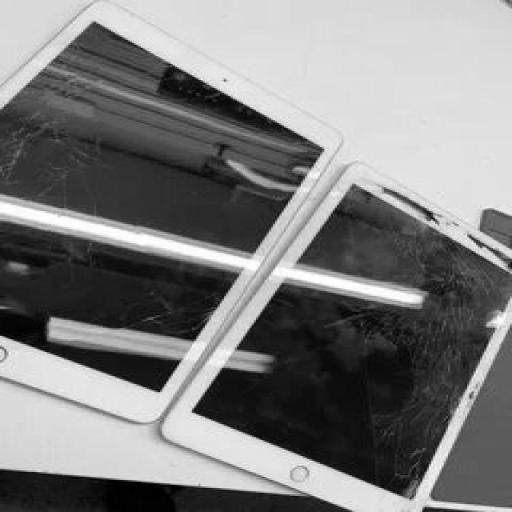phone: (0, 3, 341, 427), (163, 161, 512, 509)
